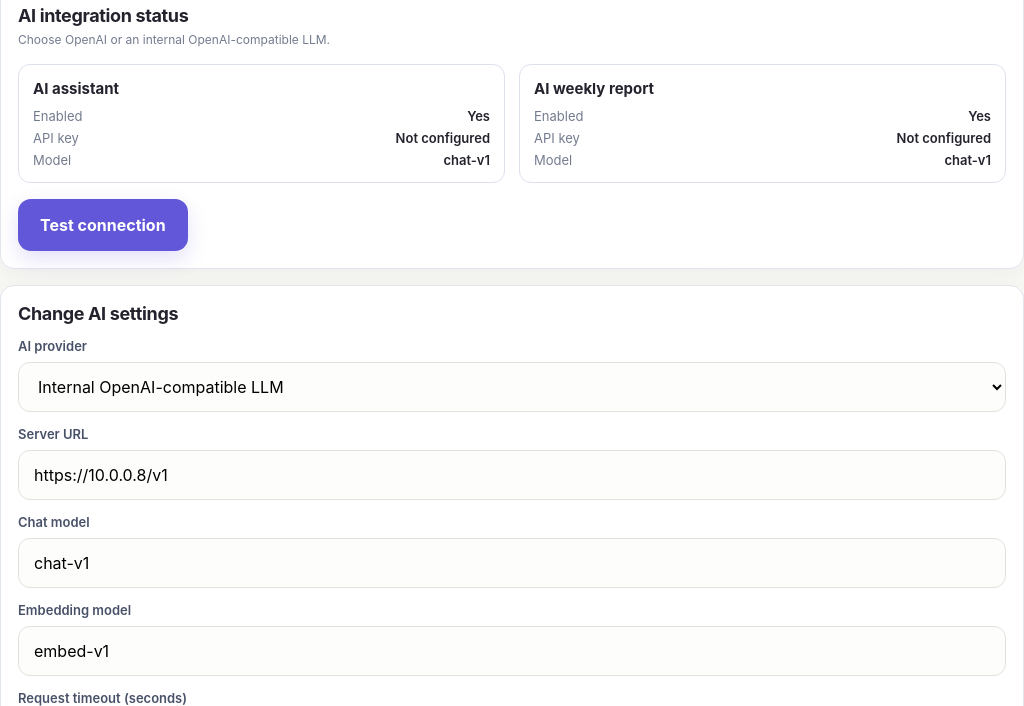
Test case: AdminAiSettingsPage › saves internal routing fields and shows separate chat and embedding probes
Expected: the field showing "https://10.0.0.8/v1" is shown, x1=18 y1=450 x2=1006 y2=500
Replace the text in the field showing "chat-v1" with "chat-v2" at (512, 563), box x1=18 y1=538 x2=1006 y2=588
(page scrolled)
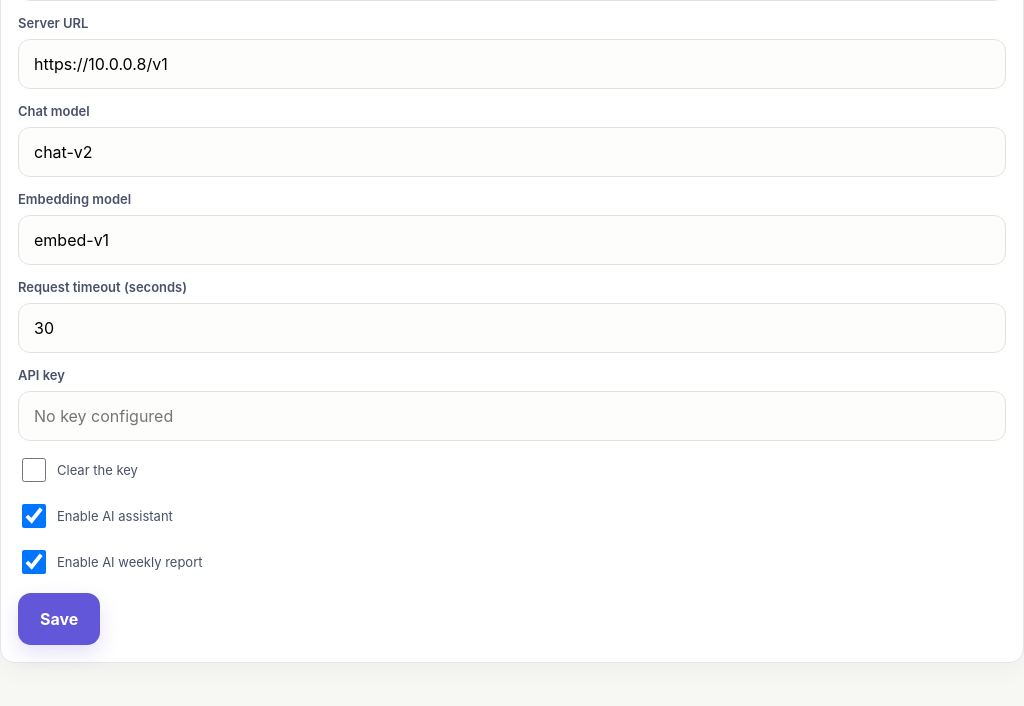
Click the button "Save" at (59, 619), box x1=18 y1=593 x2=100 y2=645
(page scrolled)
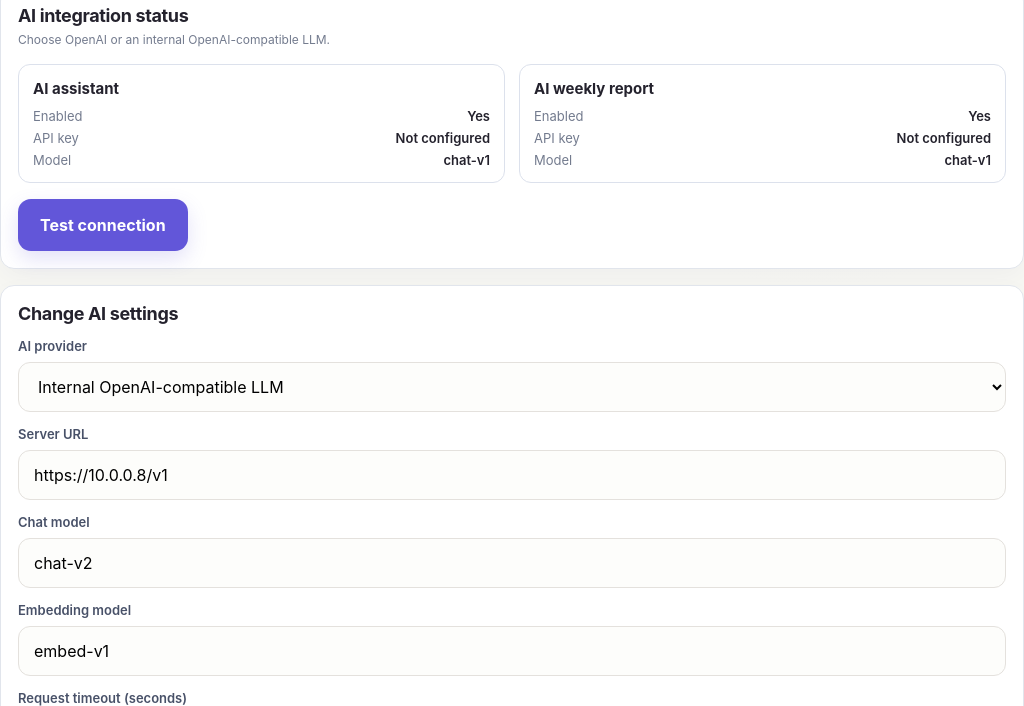
Click the button "Test connection" at (103, 225), box x1=18 y1=199 x2=188 y2=251
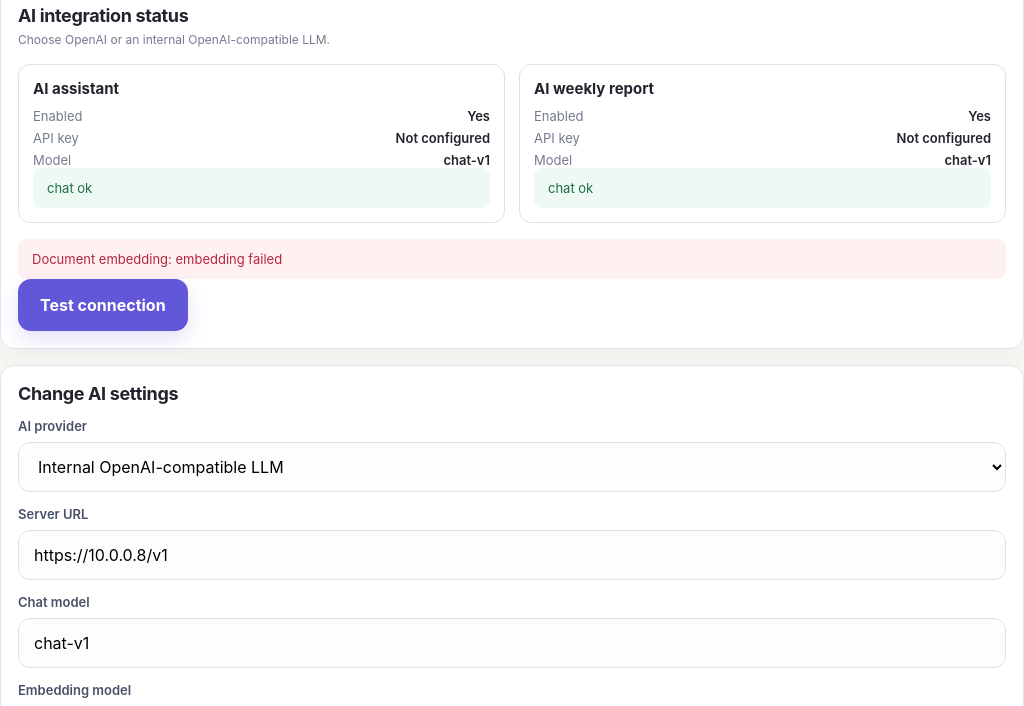
Expected: the text "chat ok" is shown 2 times, x1=33 y1=168 x2=490 y2=208; x1=534 y1=168 x2=991 y2=208
Expected: the text "Document embedding: embedding failed" is shown, x1=18 y1=239 x2=1006 y2=279
